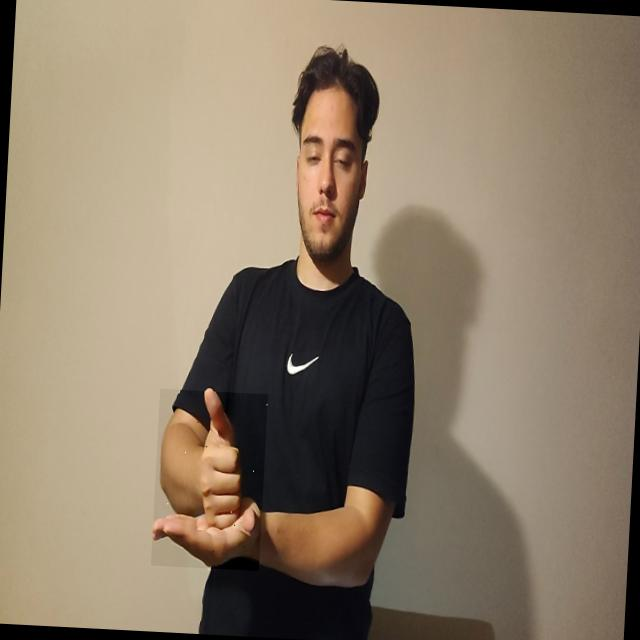help: (151, 390, 268, 572)
